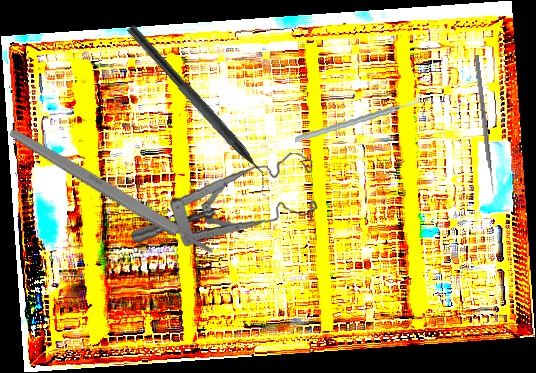Chopper: (114, 23, 282, 199), (294, 78, 422, 157)
Pusher: (473, 54, 497, 201)
Scalpel Handle: (7, 125, 216, 259)
Speculum: (129, 139, 323, 259)
